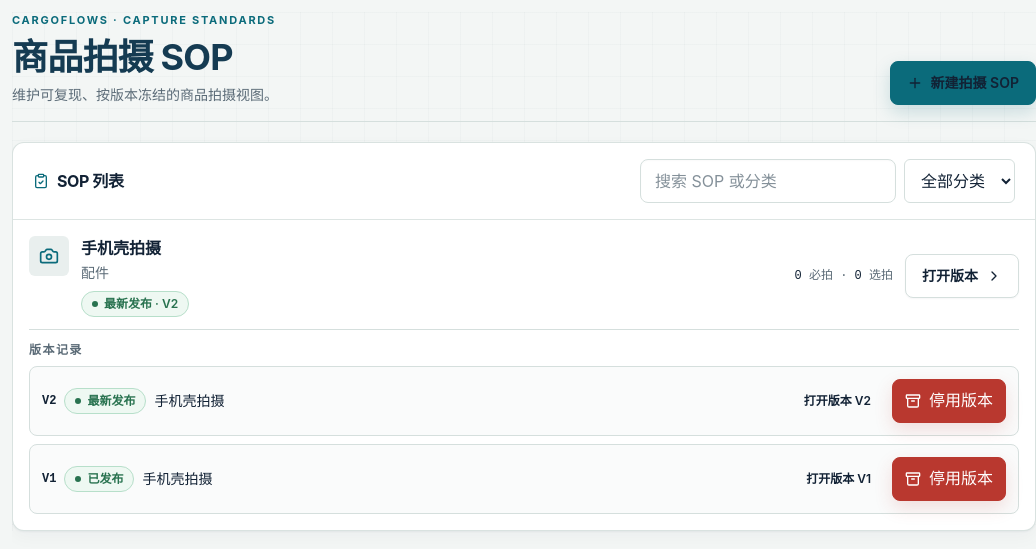
it: SOP management list › lets an older published version be disabled and re-enabled
expect the link "打开版本 V1" is shown: met, box [806,471,871,486]
expect the link "打开版本 V2" is shown: met, box [804,393,871,408]
Click the button with aria-label "停用版本 V1" at [949, 479], box [892,457,1006,501]
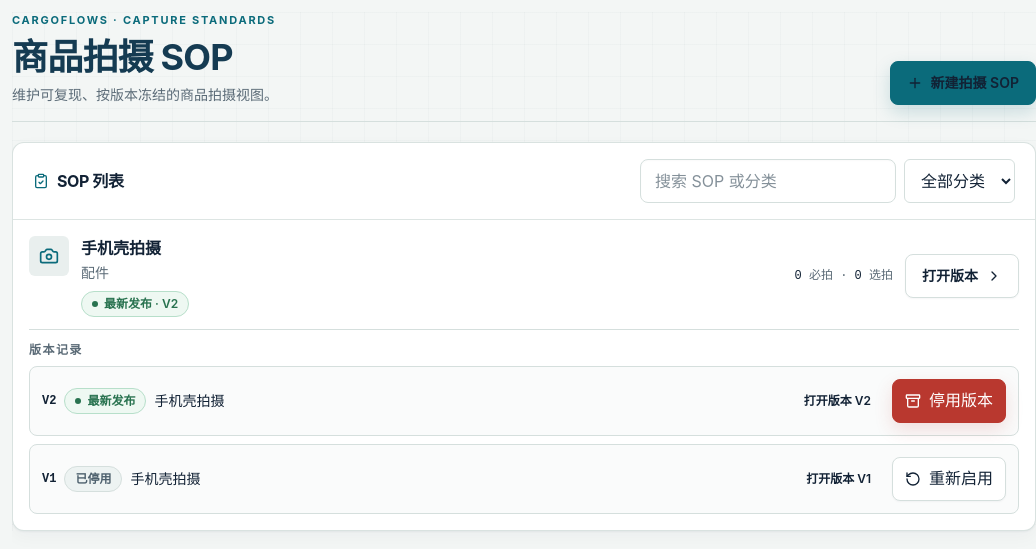
expect the text "已停用" is shown: met, box [64,466,122,492]
Click the button with aria-label "重新启用 V1" at [949, 479], box [892,457,1006,501]
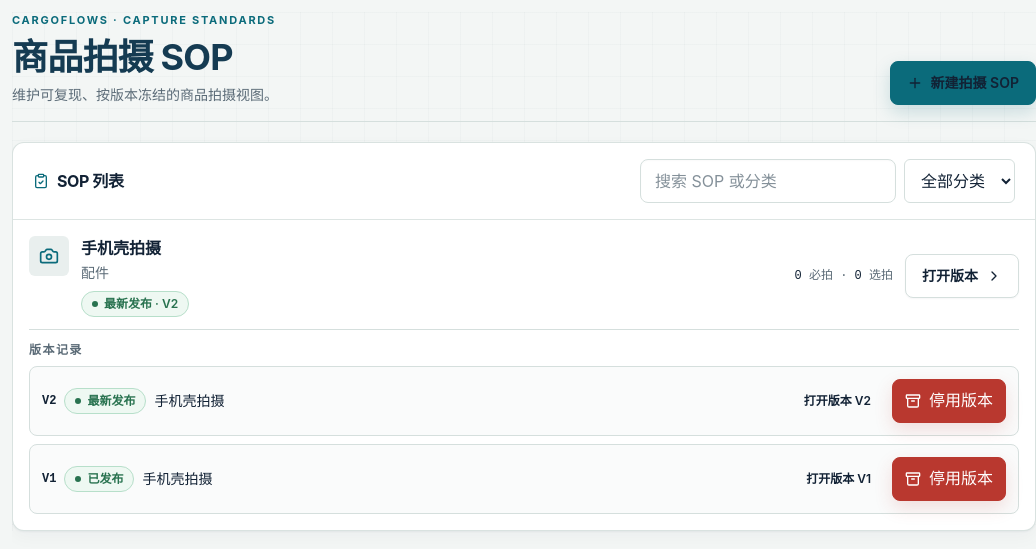
expect the button with aria-label "停用版本 V1" is shown: met, box [892,457,1006,501]
